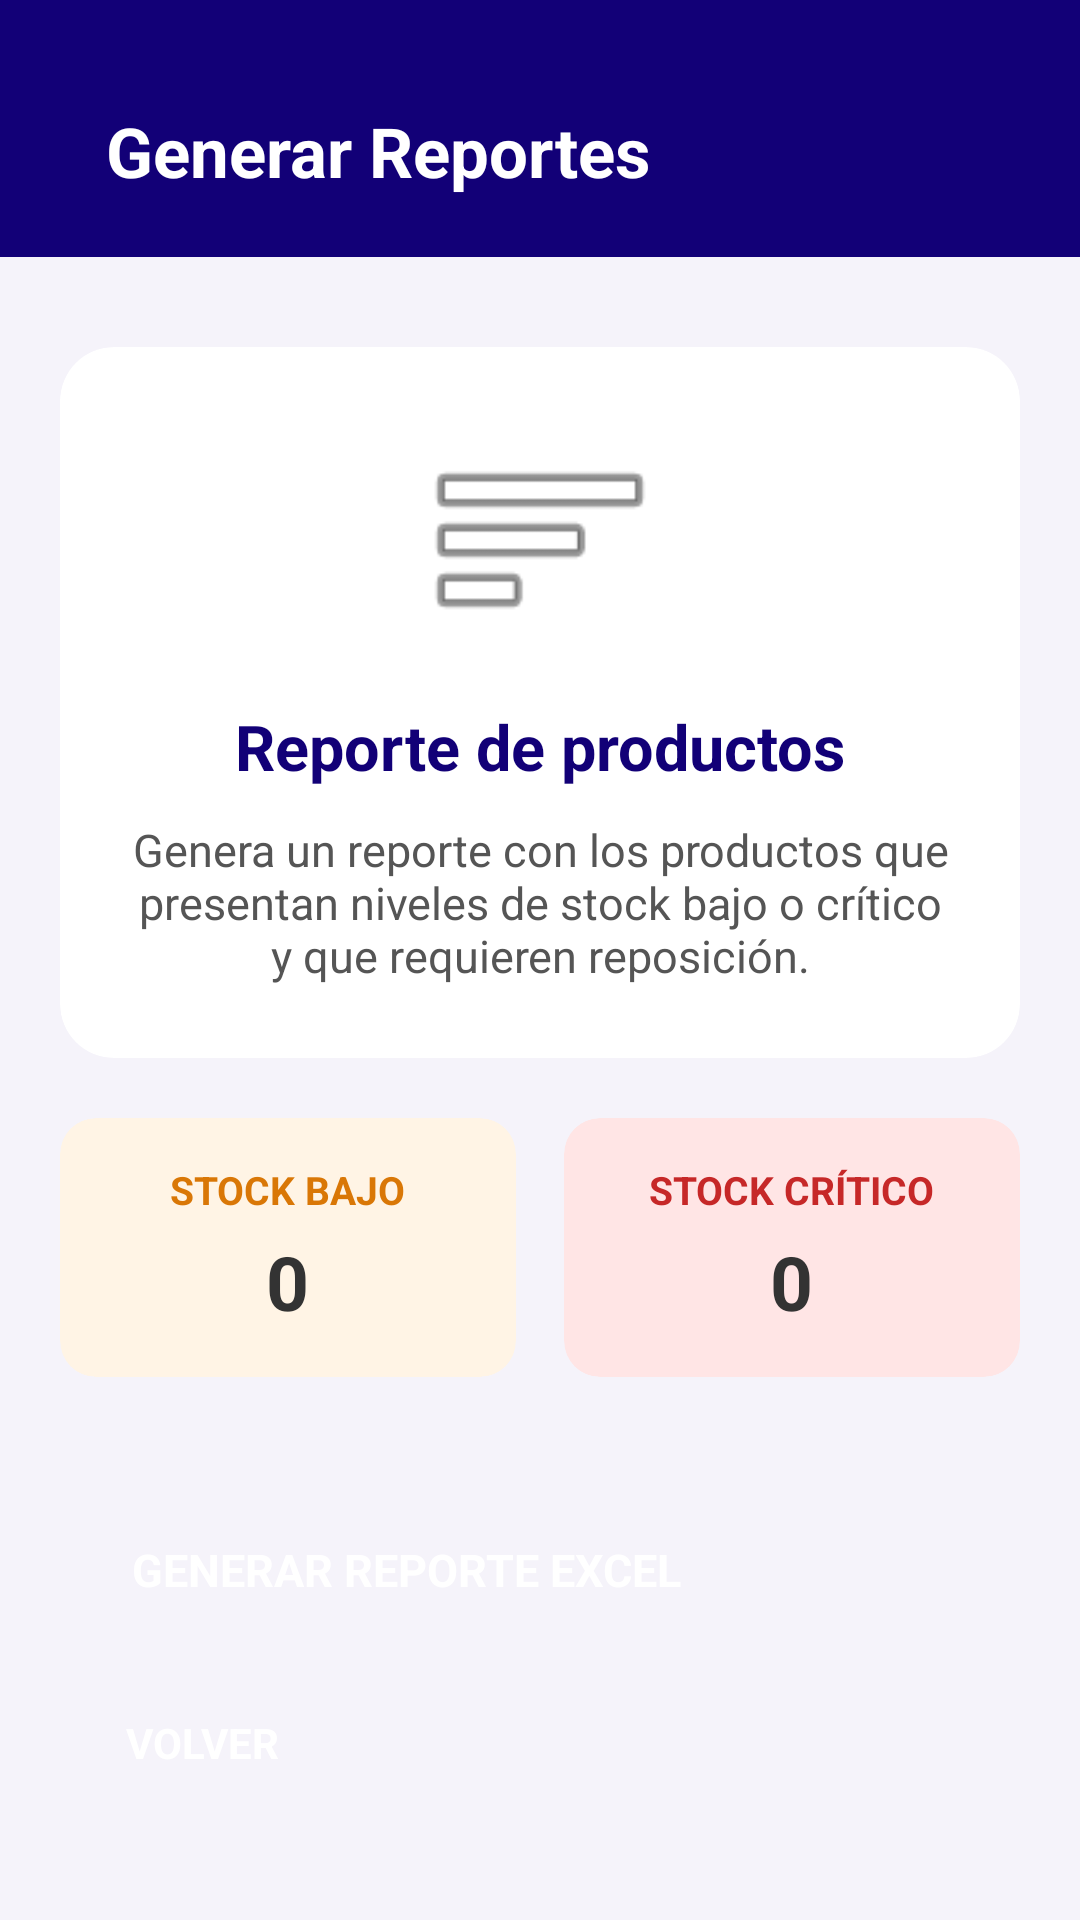

Named icons in this screenshot (1080 x 1920) and their bounding boxes, (x1, y1, x2, y2):
sort by size: (436, 473, 644, 608)
